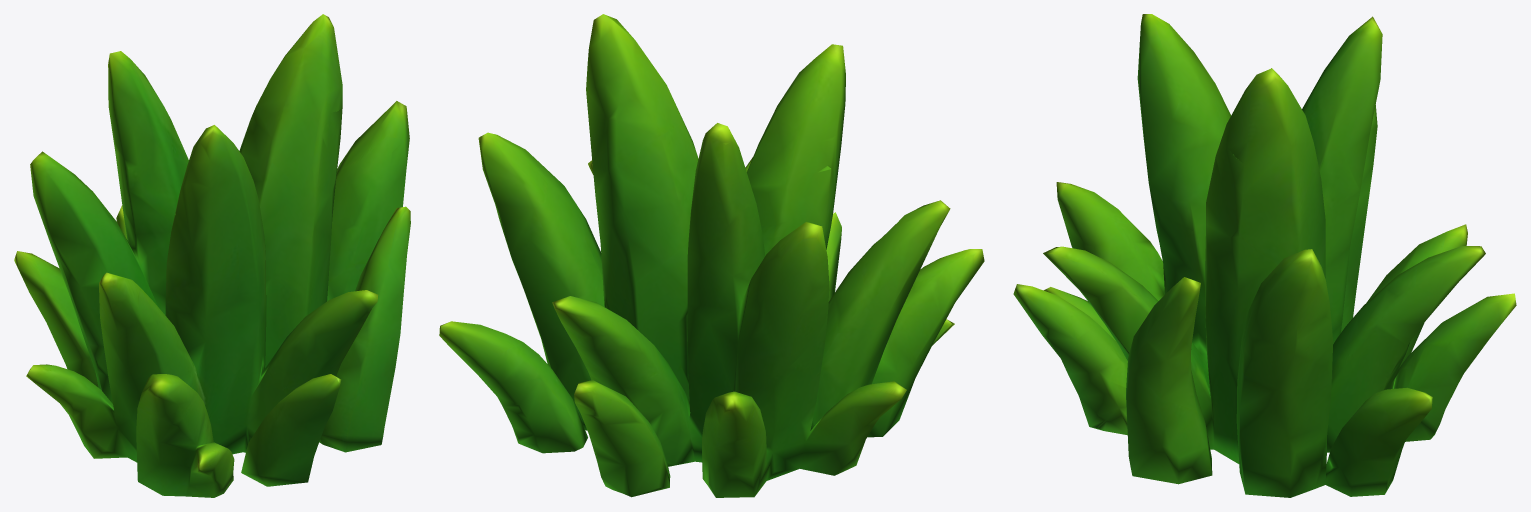
Rendered from grass-03.glb.
3 views of the same model, side by side, from view 1: azimuth 30°, elevation 25°; view 2: azimuth 150°, elevation 25°; view 3: azimuth 270°, elevation 25° (orthographic). The views are drawn at different scales.
Parts seen in each view (by area): view 1: tripo_node_f04253ce-4558-4e83-a38f-c820774fc73a; view 2: tripo_node_f04253ce-4558-4e83-a38f-c820774fc73a; view 3: tripo_node_f04253ce-4558-4e83-a38f-c820774fc73a.
Boxes of the visible parts, box(x1,y1,x2,y2) form: tripo_node_f04253ce-4558-4e83-a38f-c820774fc73a: box(14, 14, 410, 497); tripo_node_f04253ce-4558-4e83-a38f-c820774fc73a: box(439, 14, 984, 497); tripo_node_f04253ce-4558-4e83-a38f-c820774fc73a: box(1013, 14, 1516, 497).
Size of the model in its own units: 0.9767 by 0.902 by 1.
1 material, 1 textured.
